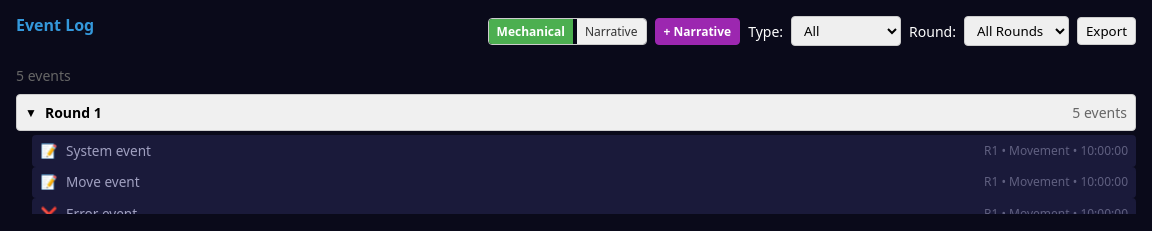
it: EventLog › event filtering › should filter by event type when filter is selected
# Find and click the type filter
Select "Error" in the dropdown labelled "Type:": [846, 31] box 791,16 -> 901,46
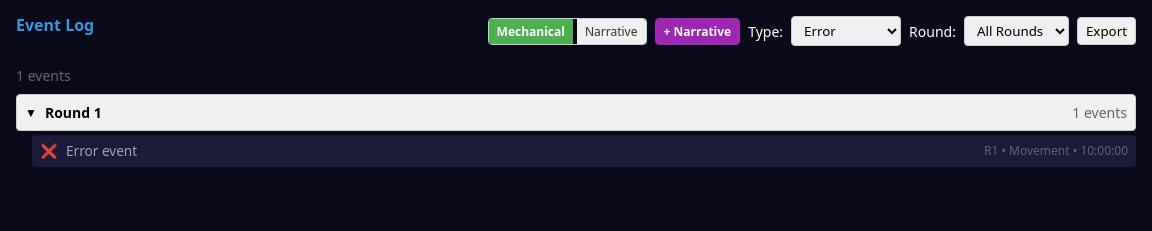
Expected: the text "Error event" is shown, 66,141 -> 137,160
Expected: the text "System event" is gone
Expected: the text "Move event" is gone
